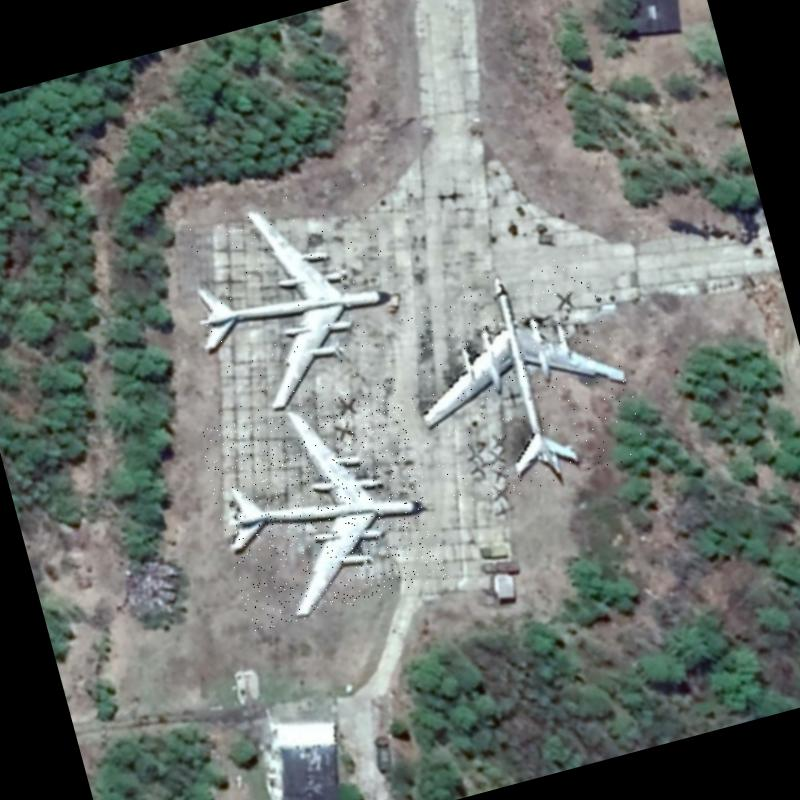A17: (384, 248, 650, 514), (196, 376, 450, 632), (167, 174, 422, 428)
